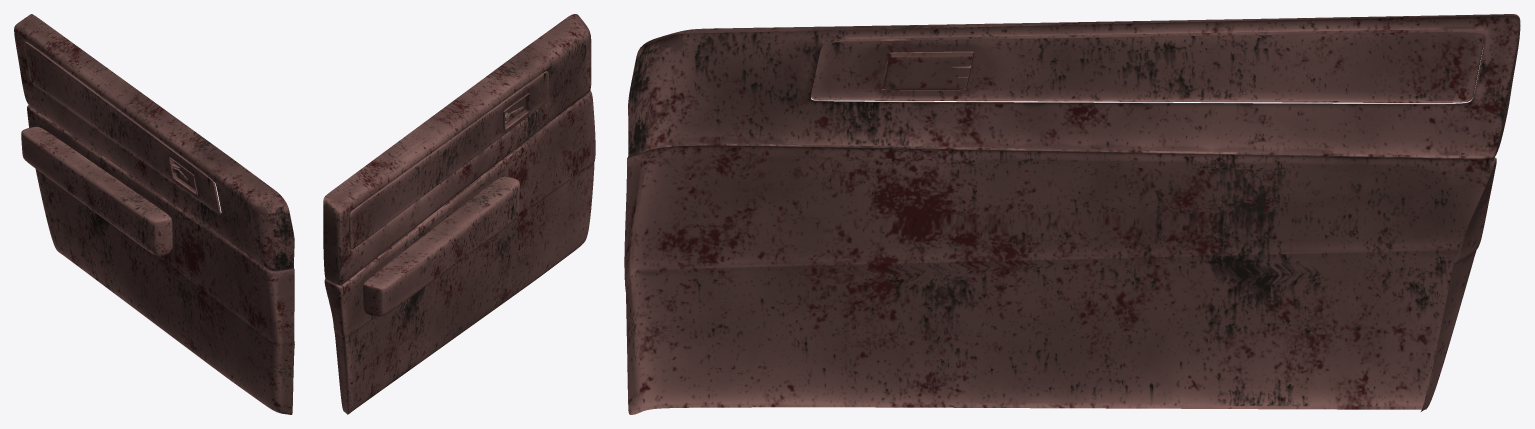
File: interior_left_panel.glb
The picture shows the model from 3 angles, left to right: view 1: azimuth 30°, elevation 25°; view 2: azimuth 150°, elevation 25°; view 3: azimuth 270°, elevation 25°; orthographic projection. The views are drawn at different scales.
Visible parts, largest first — view 1: SEAT R.015, SEAT R.018, SEAT R.016, SEAT R.017; view 2: SEAT R.015, SEAT R.018, SEAT R.016, SEAT R.017; view 3: SEAT R.015, SEAT R.016, SEAT R.017.
Part boxes in pixels (<box>): SEAT R.015: <box>14,14,294,414</box>; SEAT R.018: <box>21,126,172,255</box>; SEAT R.016: <box>24,41,220,213</box>; SEAT R.017: <box>169,157,197,195</box>; SEAT R.015: <box>323,14,595,414</box>; SEAT R.018: <box>362,176,519,316</box>; SEAT R.016: <box>349,71,549,249</box>; SEAT R.017: <box>503,93,530,130</box>; SEAT R.015: <box>624,14,1520,414</box>; SEAT R.016: <box>811,32,1484,102</box>; SEAT R.017: <box>882,51,973,90</box>.
Size of the model in its own units: 0.1435 by 0.642 by 1.33.
1 material, 1 textured.
